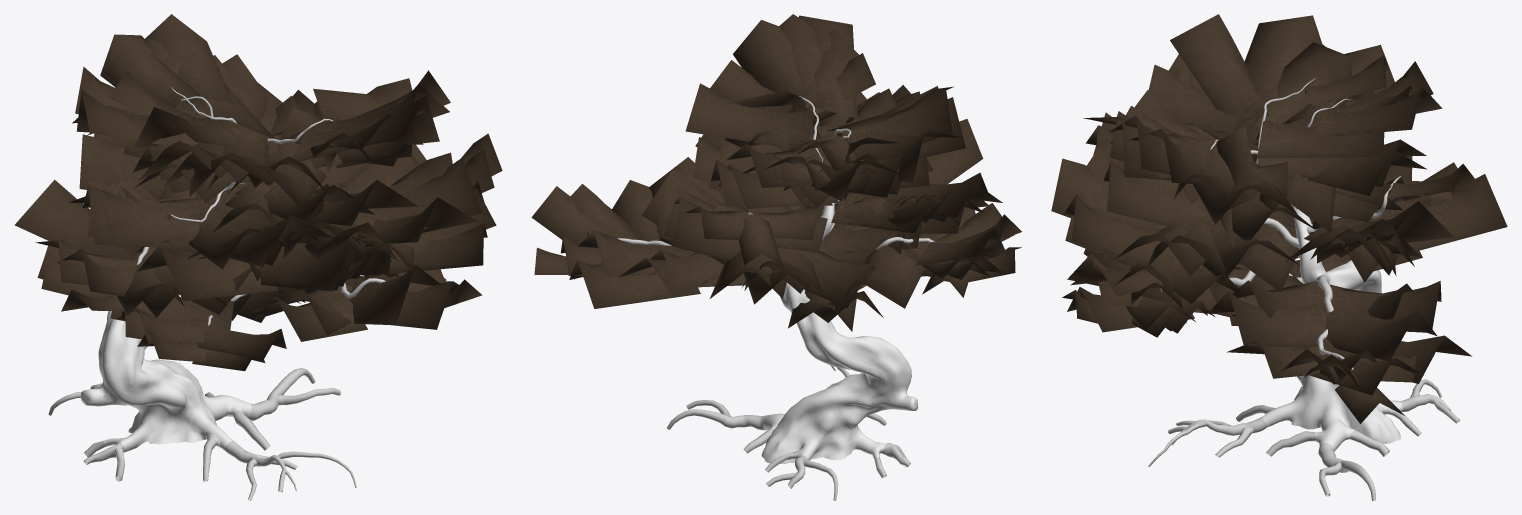
Rendered from blossom_tree_W_LOD0.fbx.
3 views of the same model, side by side, from view 1: azimuth 30°, elevation 25°; view 2: azimuth 150°, elevation 25°; view 3: azimuth 270°, elevation 25° (orthographic). The views are drawn at different scales.
Visible parts, largest first — view 1: Cherry_blossom_LOD0.001; view 2: Cherry_blossom_LOD0.001; view 3: Cherry_blossom_LOD0.001.
Part boxes in pixels (x1,y1,x2,y2): Cherry_blossom_LOD0.001: [14, 14, 502, 500]; Cherry_blossom_LOD0.001: [531, 14, 1021, 500]; Cherry_blossom_LOD0.001: [1051, 14, 1507, 500].
Bounding box in the file's own units: 15.27 × 11.95 × 12.73.
